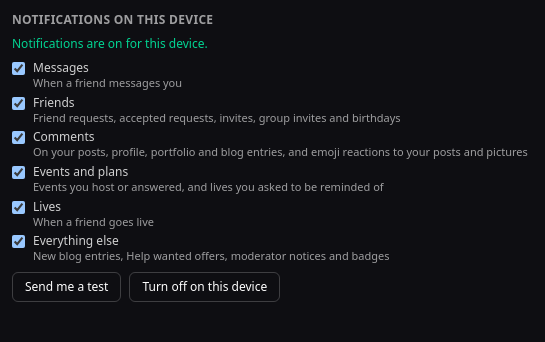
Test: PushSettings: once they are on › sends a test and says it was sent, or that it couldn't be delivered, or why not
Expected: the text "Notifications are on for this device." is shown, [12,35,208,52]
Click the button "Send me a test" at (67, 287), box [12,272,121,302]
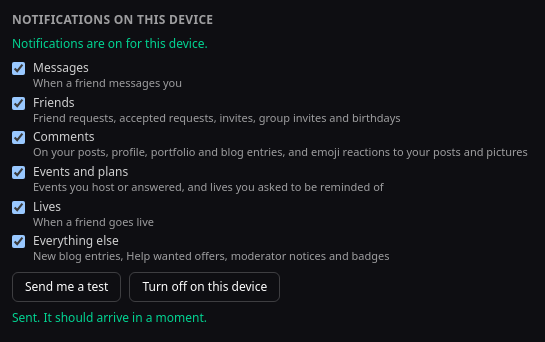
Expected: the message reads "Sent. It should arrive in a moment.", [12,309,207,326]
Click the button "Send me a test" at (67, 287), box [12,272,121,302]
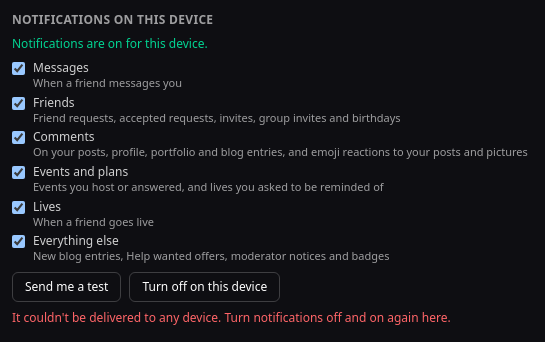
Expected: the message shows "couldn't be delivered to any device", [12,309,451,326]
Click the button "Send me a test" at (67, 287), box [12,272,121,302]
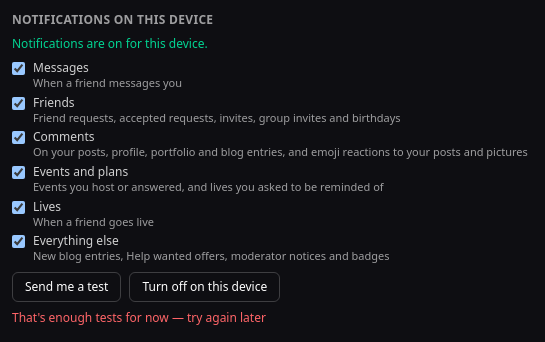
Expected: the message shows "enough tests for now", [12,309,266,326]
